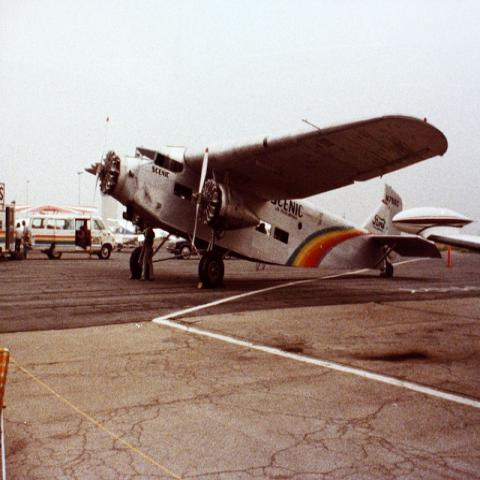bus: (26, 216, 116, 260)
car: (166, 238, 191, 260)
